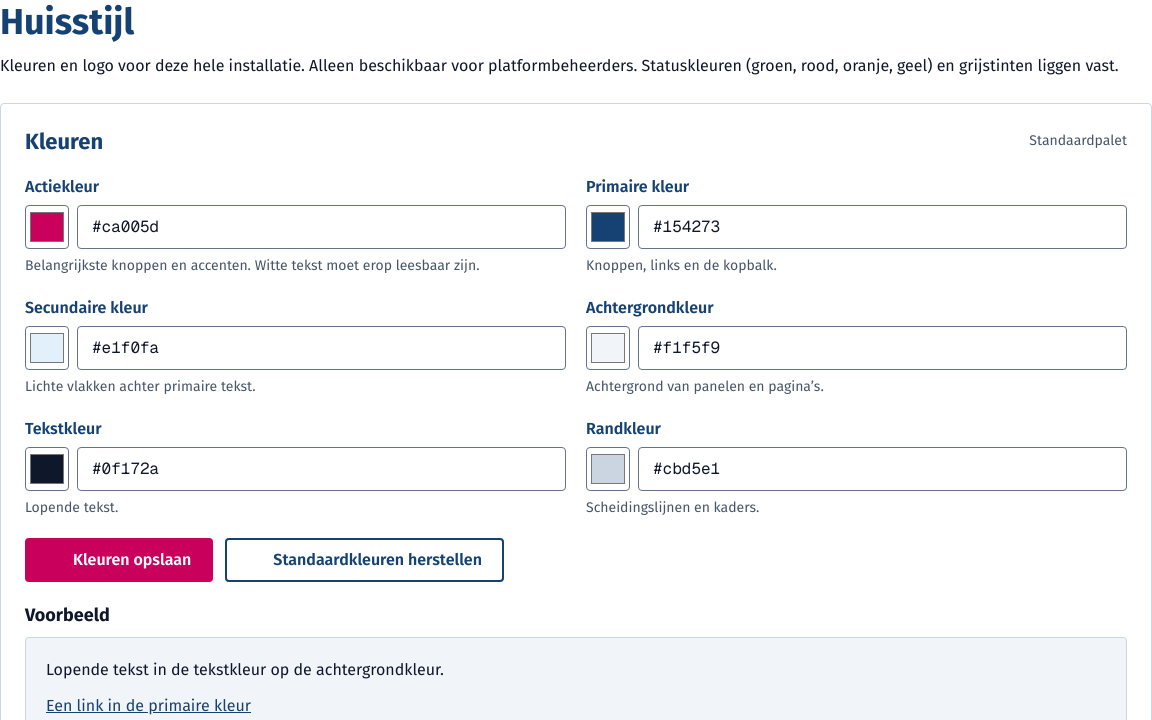
it: Huisstijl page › resets the colours with DELETE /branding
Click the button "Standaardkleuren herstellen".
click(365, 560)  # box [225,538,504,582]
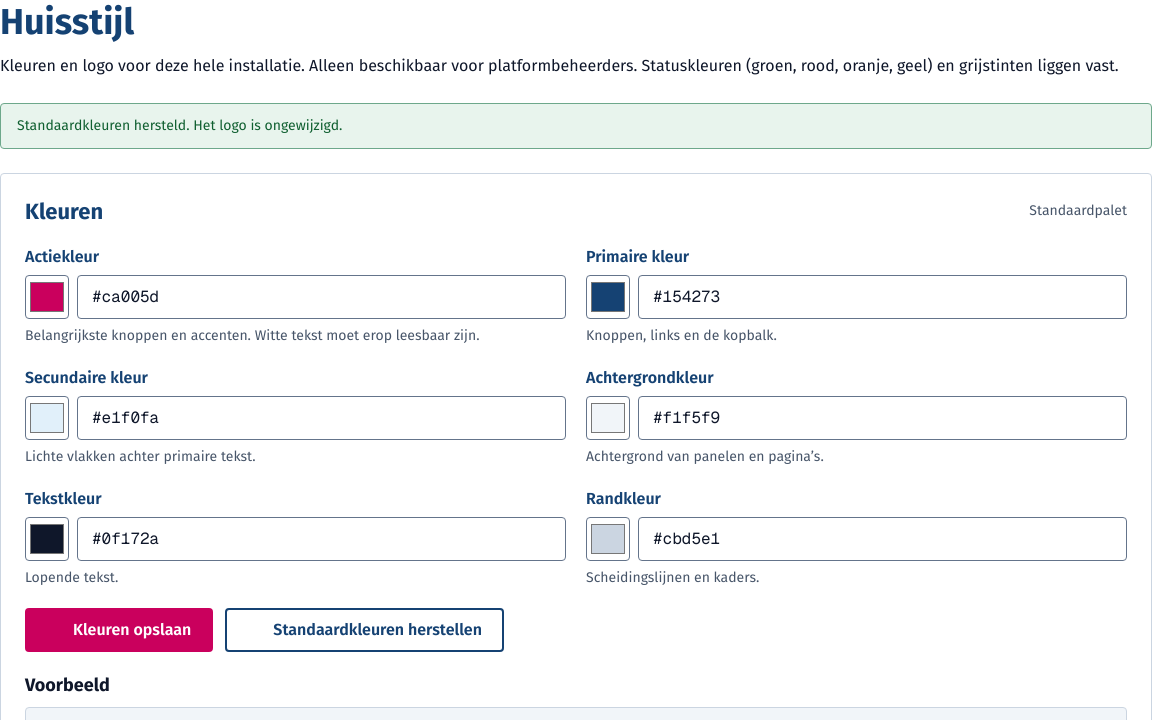
Check: the text "Het logo is ongewijzigd." is shown, box [17,117,342,134]
